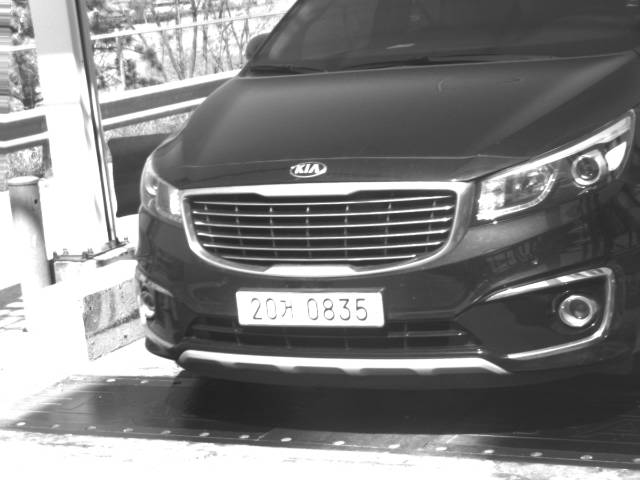car: (135, 1, 640, 394)
plate: (235, 290, 386, 329)
